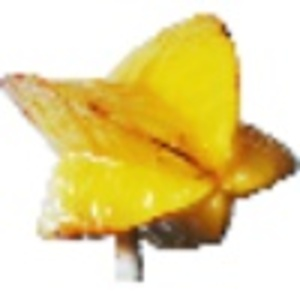carambola: (1, 11, 300, 278)
